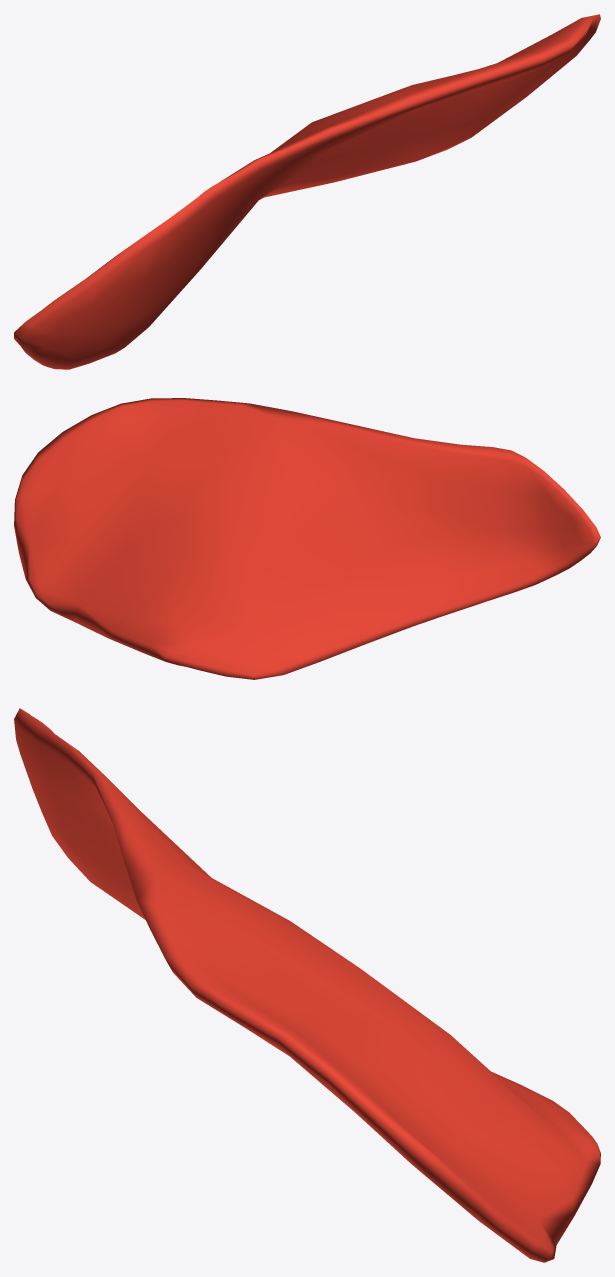
Rendered from Flexor_digitorum_brevis_calcaneal_tuberosity_left.glb.
The picture shows the model from 3 angles, top to bottom: view 1: azimuth 30°, elevation 25°; view 2: azimuth 150°, elevation 25°; view 3: azimuth 270°, elevation 25°; orthographic projection. The views are drawn at different scales.
Visible parts, largest first — view 1: Flexor_digitorum_brevis_on_medial_process_of_calcaneal_tube_; view 2: Flexor_digitorum_brevis_on_medial_process_of_calcaneal_tube_; view 3: Flexor_digitorum_brevis_on_medial_process_of_calcaneal_tube_.
Boxes of the visible parts, x1=… form: Flexor_digitorum_brevis_on_medial_process_of_calcaneal_tube_: x1=14, y1=14, x2=600, y2=369; Flexor_digitorum_brevis_on_medial_process_of_calcaneal_tube_: x1=14, y1=398, x2=600, y2=679; Flexor_digitorum_brevis_on_medial_process_of_calcaneal_tube_: x1=14, y1=708, x2=600, y2=1262.
Size of the model in its own units: 0.0209 by 0.00696 by 0.0117.
